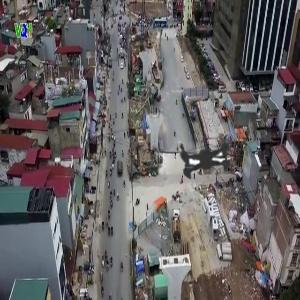drone: (129, 78, 297, 246)
